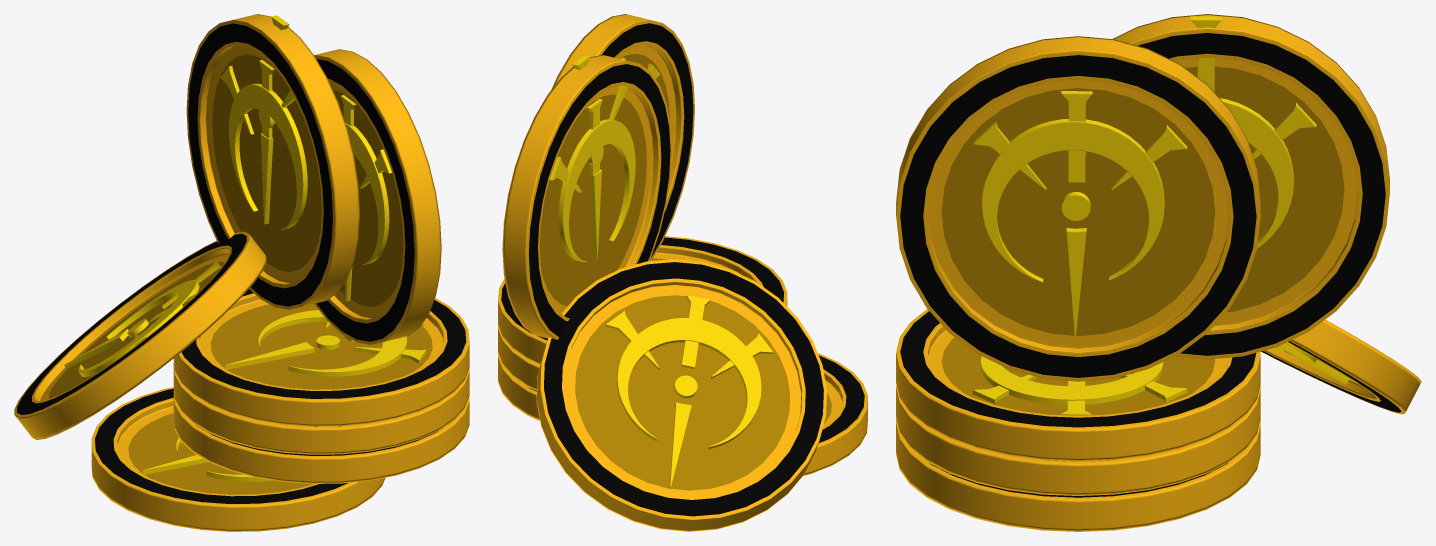
File: coinBundle.fbx
3 renders of one model, left to right at view 1: azimuth 30°, elevation 25°; view 2: azimuth 150°, elevation 25°; view 3: azimuth 270°, elevation 25°, orthographic. The views are drawn at different scales.
Visible parts, largest first — view 1: Cylinder.016, Cylinder.010, Cylinder.013, Cylinder.001, Cylinder.019, Cylinder.004, Cylinder.007, Curve.050, Curve.030, Curve.060, Curve.040, Curve.033 (+2 smaller); view 2: Cylinder.019, Cylinder.016, Cylinder.013, Curve.060, Cylinder.010, Cylinder.001, Curve.050, Cylinder.004, Cylinder.007, Curve.063, Curve.053, Curve.061 (+3 smaller); view 3: Cylinder.013, Cylinder.016, Cylinder.010, Cylinder.004, Cylinder.007, Curve.045, Cylinder.019, Curve.030, Curve.055, Curve.048, Curve.046, Curve.047 (+4 smaller).
Boxes of the visible parts, x1,y1,x2,y2 form: Cylinder.016: (186,14,359,309); Cylinder.010: (173,289,469,426); Cylinder.013: (314,49,441,344); Cylinder.001: (91,387,385,531); Cylinder.019: (14,231,266,439); Cylinder.004: (173,391,469,483); Cylinder.007: (173,362,469,454); Curve.050: (229,83,307,229); Curve.030: (258,310,406,376); Curve.060: (78,280,199,376); Curve.040: (345,123,389,264); Curve.033: (225,342,314,369); Cylinder.019: (536,259,826,531); Cylinder.016: (502,55,672,339); Cylinder.013: (551,14,694,260); Curve.060: (617,318,761,449); Cylinder.010: (498,236,787,364); Cylinder.001: (803,353,867,475); Curve.050: (558,119,635,262); Cylinder.004: (498,355,539,420); Cylinder.007: (498,327,539,390); Curve.063: (669,402,691,488); Curve.053: (589,169,601,259); Curve.061: (681,295,710,368); Cylinder.013: (896,36,1260,381); Cylinder.016: (1112,14,1389,359); Cylinder.010: (896,309,1260,461); Cylinder.004: (896,421,1260,531); Cylinder.007: (896,386,1260,495); Curve.045: (982,119,1164,282); Cylinder.019: (1261,319,1421,414); Curve.030: (980,356,1163,405); Curve.055: (1220,98,1293,248); Curve.048: (1066,228,1086,339); Curve.046: (1061,91,1092,182); Curve.047: (1111,125,1187,189).
Bounding box in the file's own units: 280 × 294 × 288.
